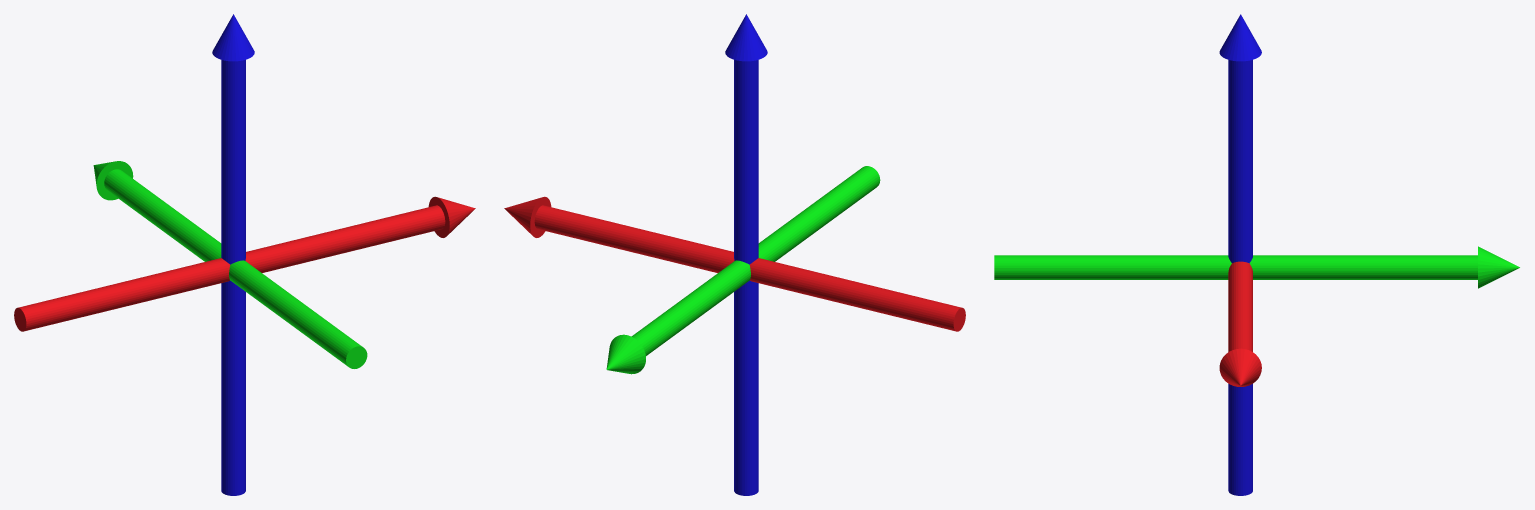
The model's file is Axis.glb.
3 renders of one model, left to right at view 1: azimuth 30°, elevation 25°; view 2: azimuth 150°, elevation 25°; view 3: azimuth 270°, elevation 25°, orthographic.
Visible parts, largest first — view 1: Z_Axis.002, Z_Axis, Z_Axis.001, Cone_Z, Cone_Z.002, Cone_Z.001; view 2: Z_Axis.002, Z_Axis, Z_Axis.001, Cone_Z.001, Cone_Z, Cone_Z.002; view 3: Z_Axis.001, Z_Axis, Z_Axis.002, Cone_Z.002, Cone_Z, Cone_Z.001.
Part boxes in pixels (left/top/right/bottom): Z_Axis.002: left=14, top=205, right=445, bottom=331; Z_Axis: left=221, top=60, right=245, bottom=495; Z_Axis.001: left=104, top=169, right=367, bottom=368; Cone_Z: left=212, top=14, right=254, bottom=61; Cone_Z.002: left=428, top=196, right=475, bottom=237; Cone_Z.001: left=93, top=161, right=133, bottom=200; Z_Axis.002: left=534, top=205, right=965, bottom=331; Z_Axis: left=734, top=60, right=758, bottom=495; Z_Axis.001: left=631, top=166, right=880, bottom=355; Cone_Z.001: left=606, top=334, right=645, bottom=374; Cone_Z: left=725, top=14, right=767, bottom=61; Cone_Z.002: left=504, top=196, right=551, bottom=237; Z_Axis.001: left=994, top=255, right=1477, bottom=279; Z_Axis: left=1228, top=60, right=1252, bottom=495; Z_Axis.002: left=1228, top=261, right=1252, bottom=351; Cone_Z.002: left=1219, top=348, right=1261, bottom=386; Cone_Z: left=1219, top=14, right=1261, bottom=61; Cone_Z.001: left=1478, top=246, right=1519, bottom=288.
Bounding box in the file's own units: 2.14 × 2.14 × 2.14.
